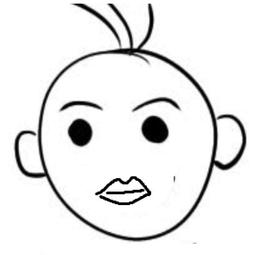cupid_mouth: (88, 172, 165, 210)
ear: (200, 108, 250, 174), (8, 123, 51, 188)
eye: (61, 116, 104, 151), (136, 115, 177, 151)
eyebrow: (129, 94, 188, 114), (55, 100, 111, 110)
